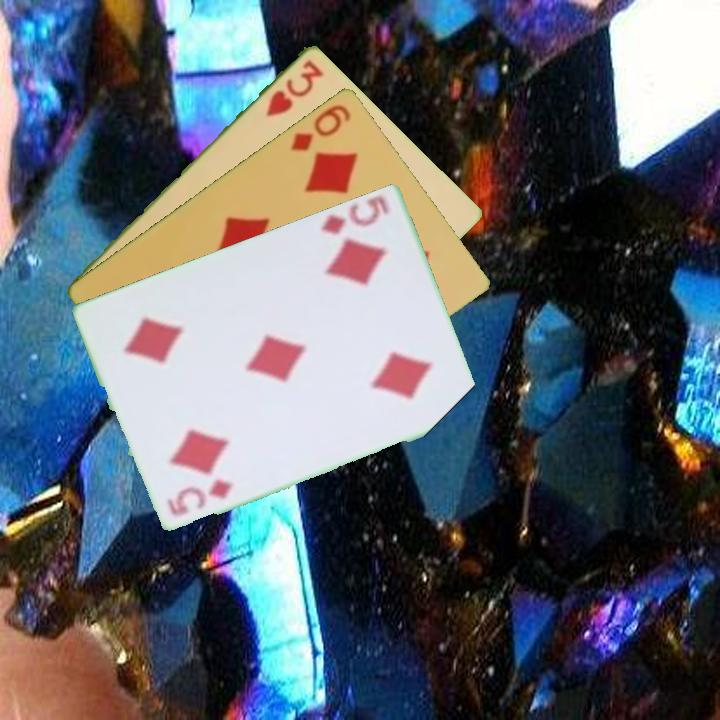3h: (262, 55, 327, 119)
5d: (317, 191, 392, 237), (164, 475, 237, 519)
6d: (287, 100, 354, 154)
